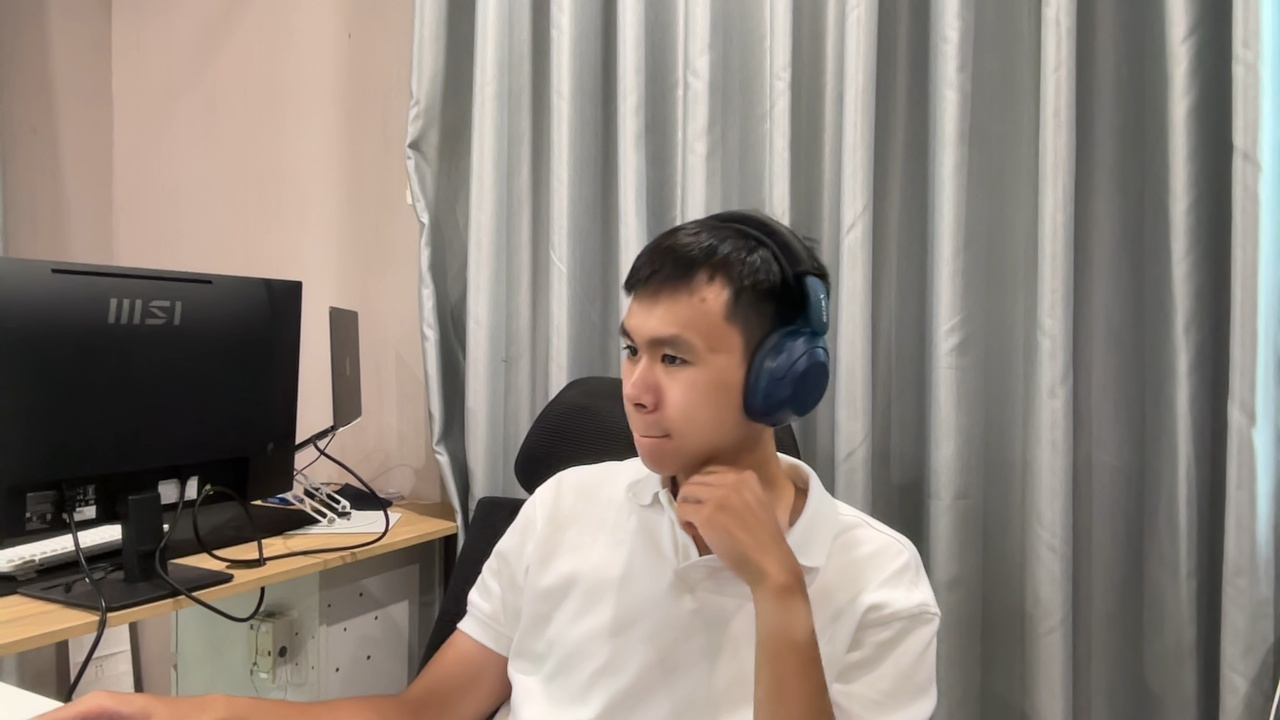over_ear: (726, 223, 833, 429), (739, 273, 832, 428)
